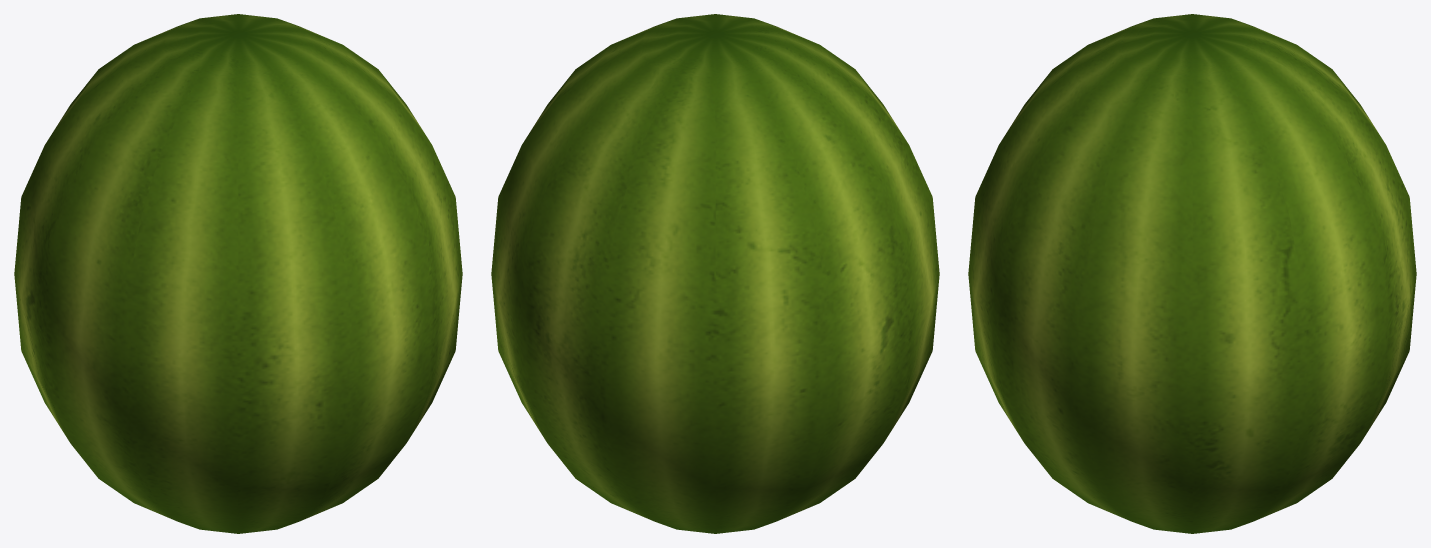
File: Watermelon.fbx
3 views of the same model, side by side, from view 1: azimuth 30°, elevation 25°; view 2: azimuth 150°, elevation 25°; view 3: azimuth 270°, elevation 25° (orthographic).
Visible parts, largest first — view 1: Watermelon_Whole; view 2: Watermelon_Whole; view 3: Watermelon_Whole.
Part boxes in pixels (x1,y1,x2,y2): Watermelon_Whole: [14, 14, 462, 533]; Watermelon_Whole: [491, 14, 939, 533]; Watermelon_Whole: [968, 14, 1416, 533].
Size of the model in its own units: 2.44 by 2.89 by 2.44.
